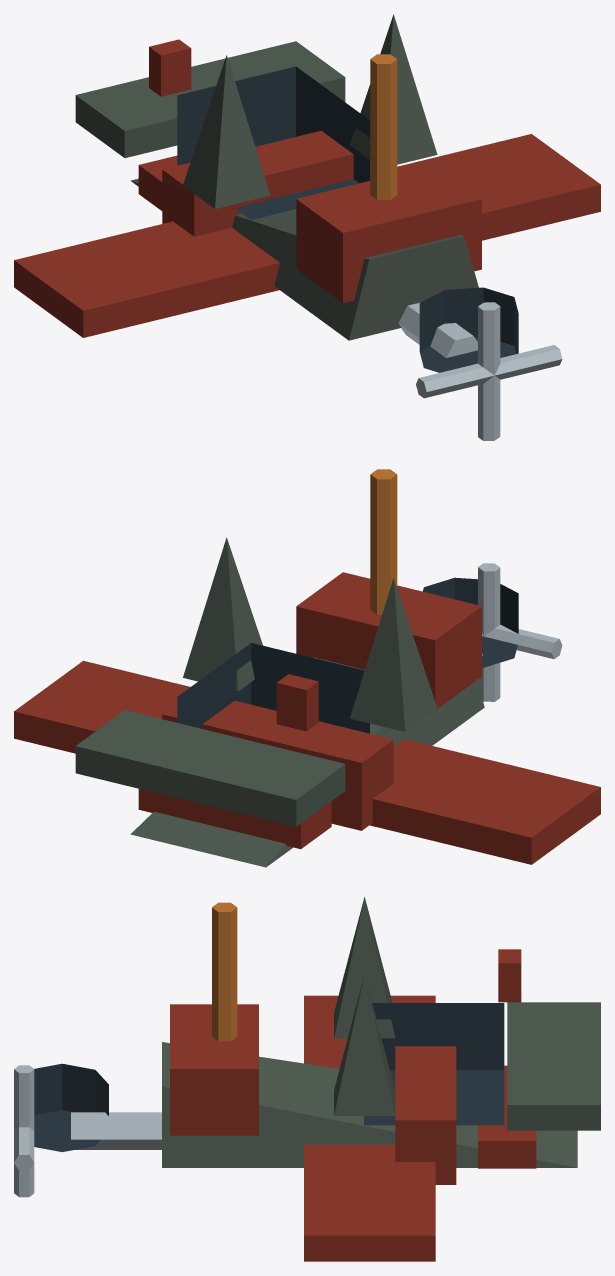
Rendered from scout-aircraft.obj.
The picture shows the model from 3 angles, top to bottom: view 1: azimuth 30°, elevation 25°; view 2: azimuth 150°, elevation 25°; view 3: azimuth 270°, elevation 25°; orthographic projection. The views are drawn at different scales.
Visible parts, largest first — view 1: air; view 2: air; view 3: air.
Boxes of the visible parts, x1=… form: air: x1=14, y1=14, x2=600, y2=440; air: x1=14, y1=469, x2=600, y2=867; air: x1=14, y1=897, x2=600, y2=1261.
Bounding box in the file's own units: 2.23 × 1.24 × 2.31.
